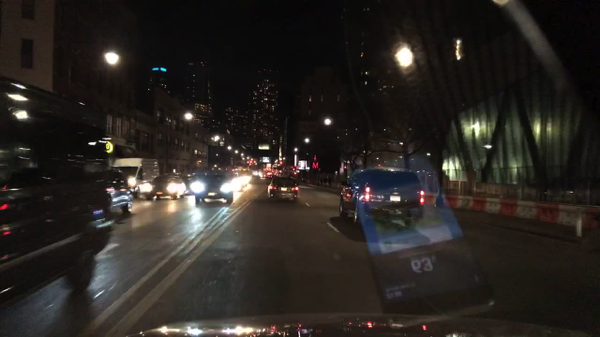car: (0, 74, 115, 309), (338, 166, 425, 229), (195, 174, 234, 203), (108, 169, 134, 212), (149, 176, 186, 201), (269, 176, 298, 203), (180, 173, 199, 194), (227, 174, 245, 192), (193, 173, 206, 178), (259, 174, 266, 180)
truck: (113, 158, 159, 194)
